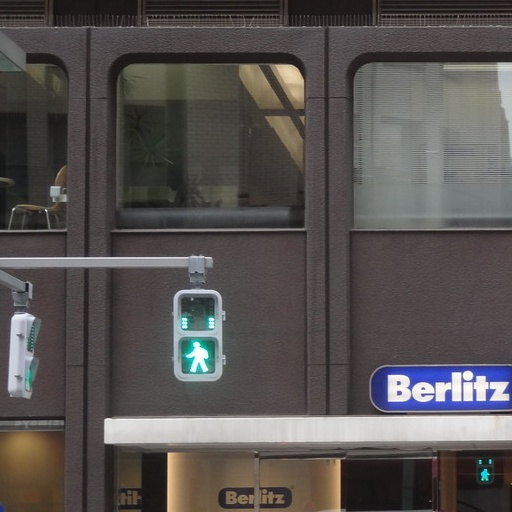Pedestrian_Signal_Blue: (168, 281, 225, 377)
